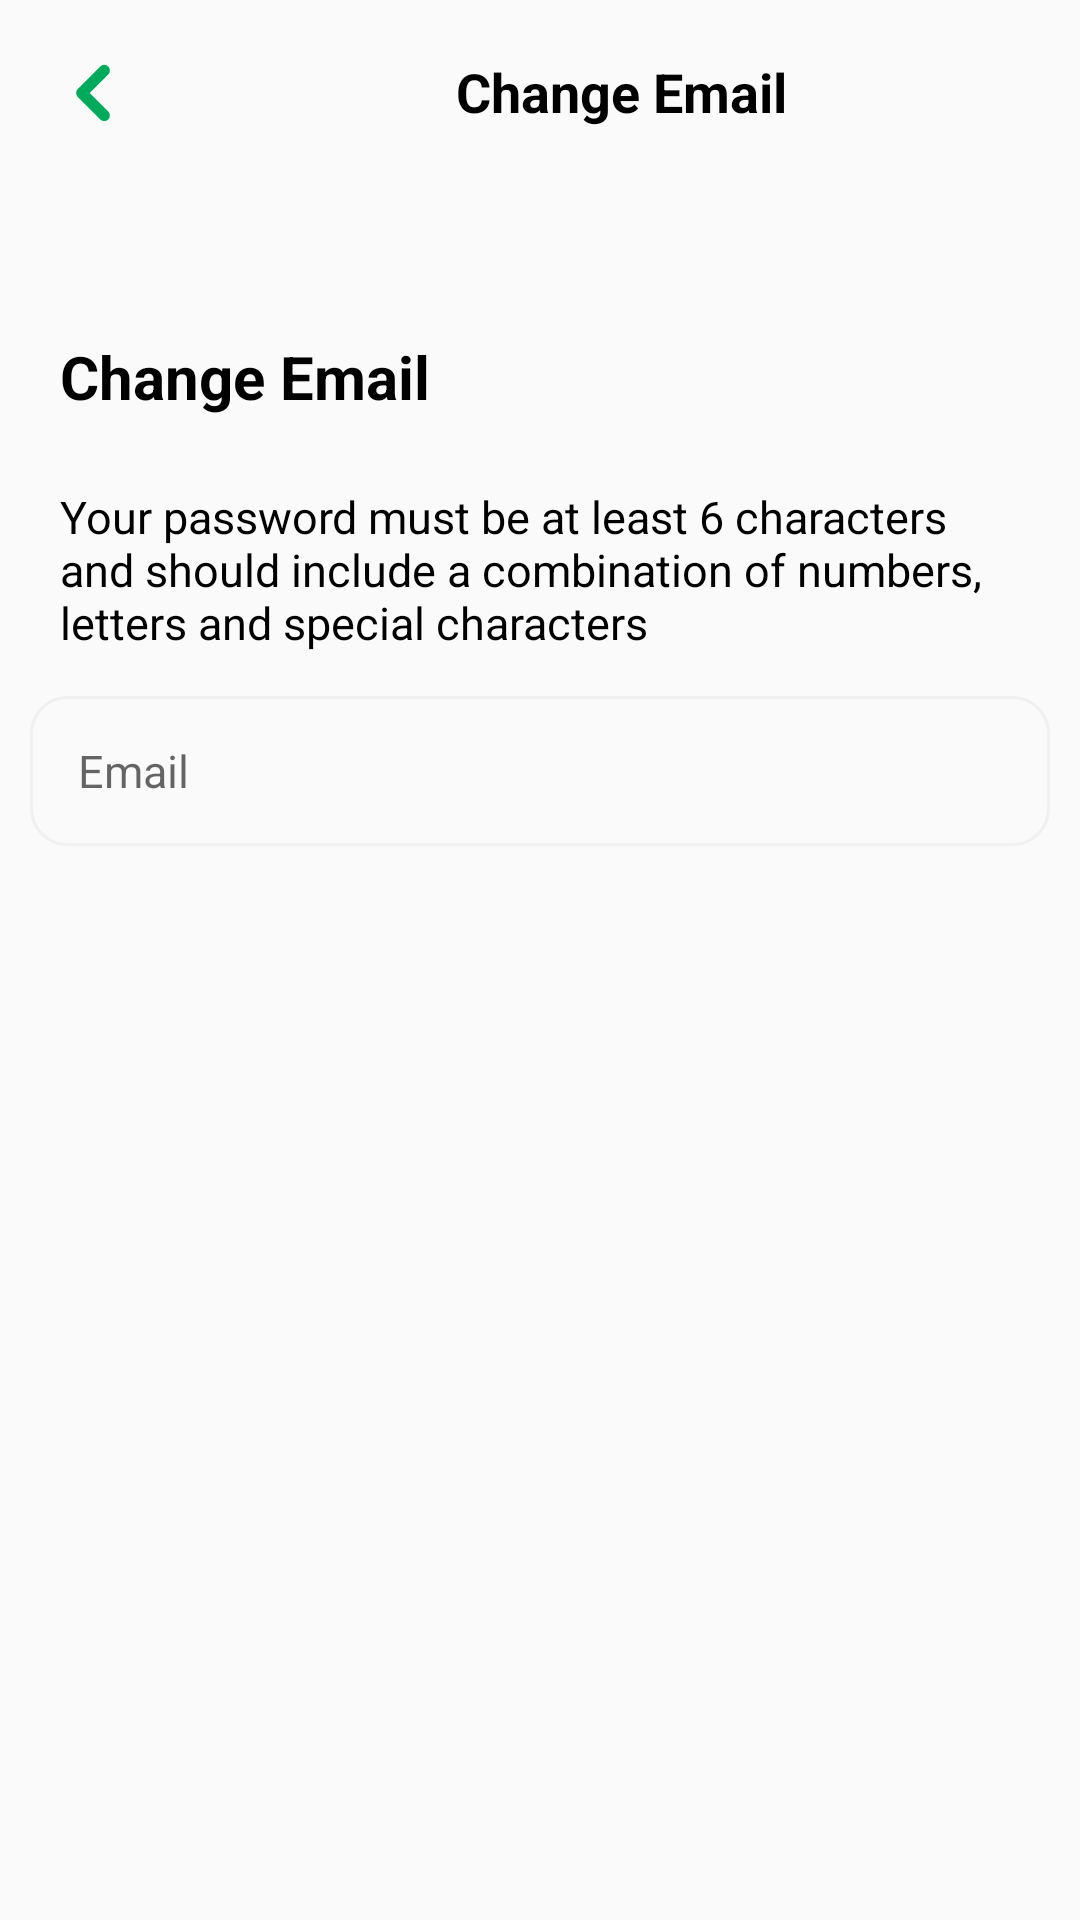

Screen size 1080x1920. Icon name, then its box in pixels as detection(x1, y1, x2, y2):
Back: detection(76, 64, 110, 121)
